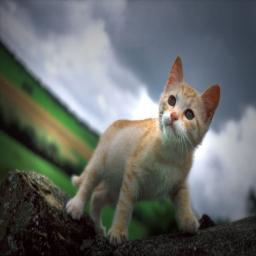catnose: (167, 110, 179, 124)
